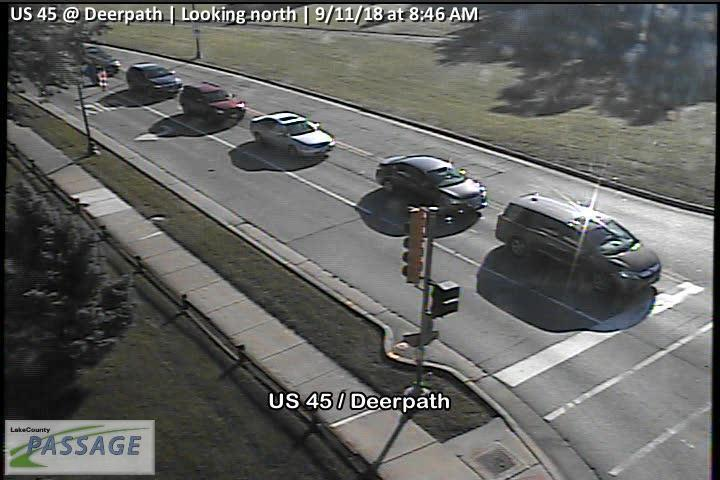SUV: (179, 80, 247, 124), (126, 62, 183, 98), (75, 41, 121, 76)
Sedan: (495, 190, 662, 296), (374, 153, 488, 217), (248, 110, 337, 161)
